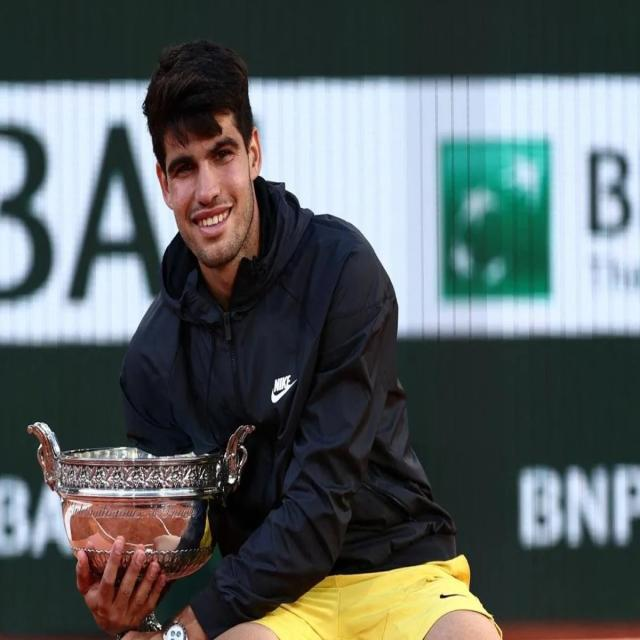nike: (266, 374, 296, 404)
